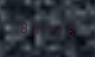eight: (18, 17, 28, 35), (62, 21, 72, 38)
four: (40, 19, 50, 37)
nine: (29, 18, 39, 36)
two: (51, 20, 61, 37)
